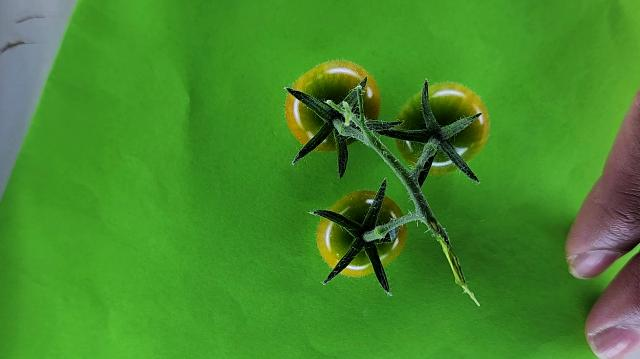Fully Grown: (392, 81, 489, 175), (286, 59, 381, 153), (317, 190, 407, 278)
